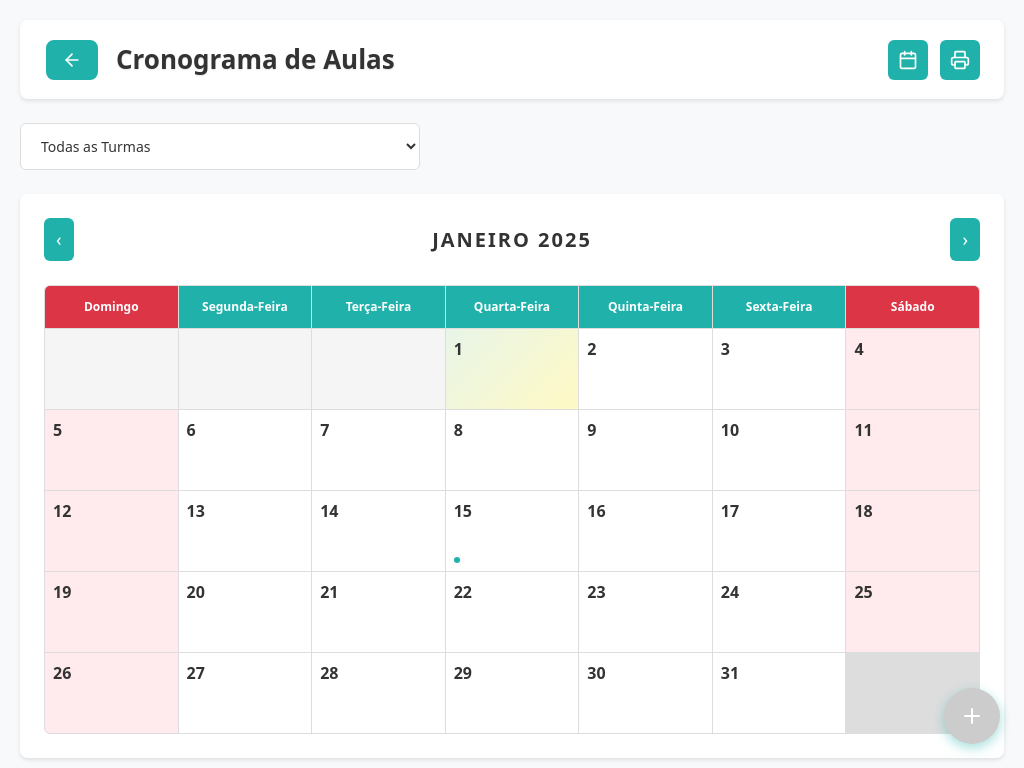
Test case: CronogramaPage › seleciona múltiplos dias com Ctrl+Click
The image size is (1024, 768).
Click the text "15".
click(463, 511)  # box [454,500,472,522]
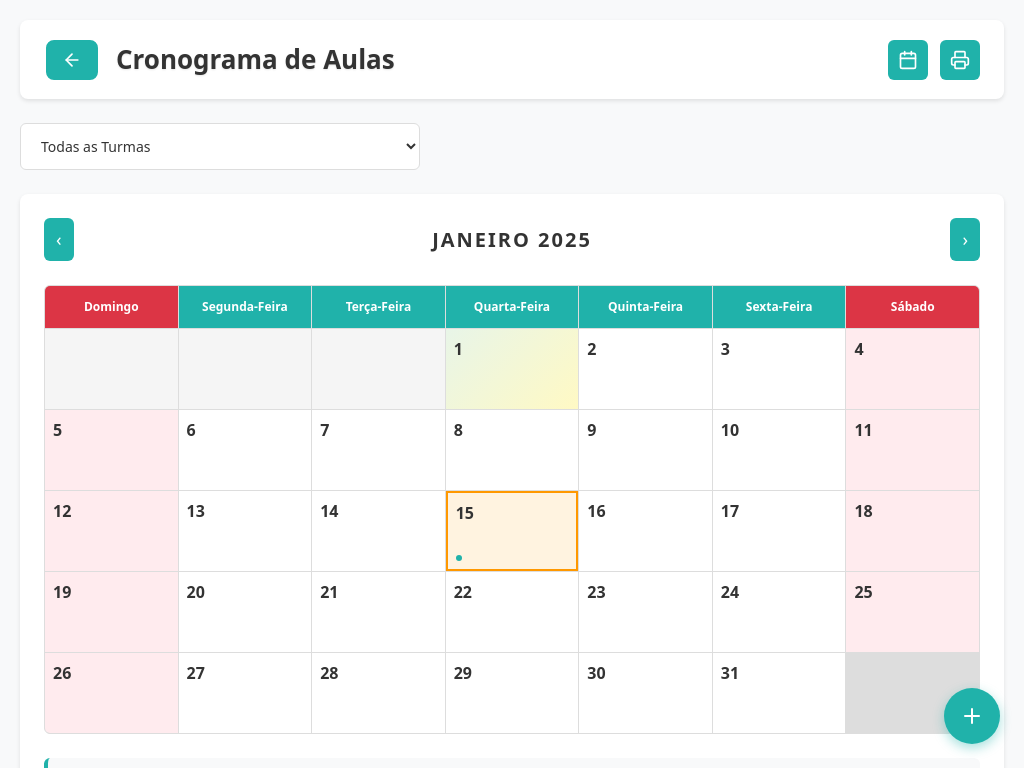
Click the text "16".
click(596, 511)  # box [587,500,606,522]
(page scrolled)
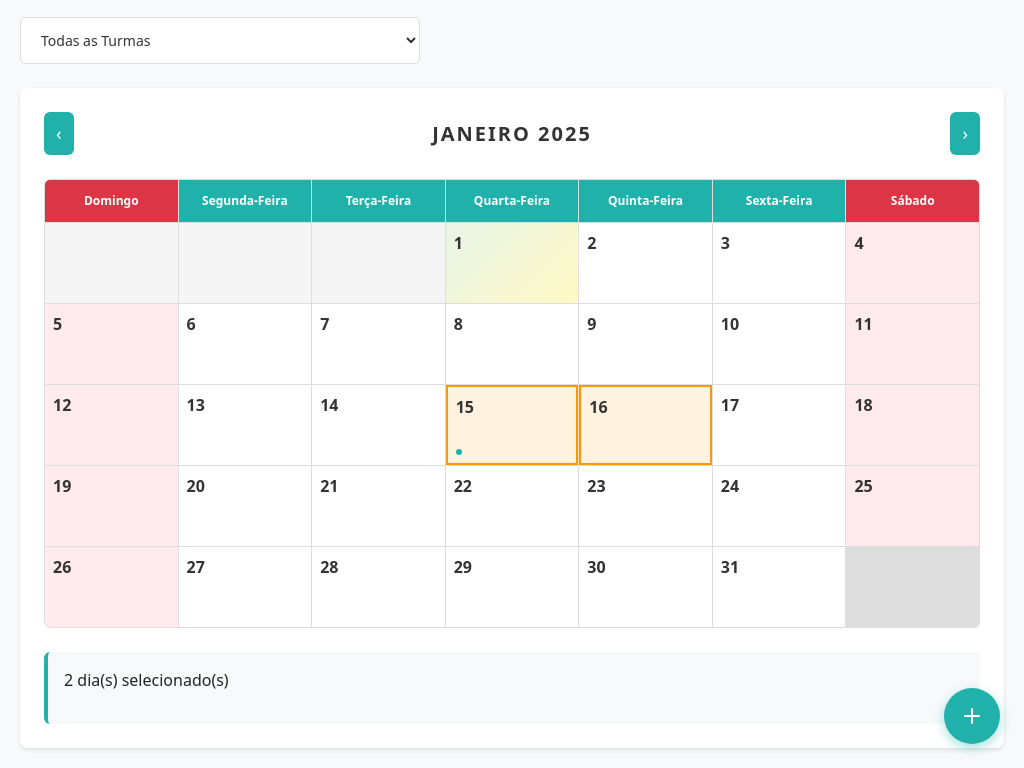
expect the text "2 dia(s) selecionado(s)" is shown: met, box [64,669,229,691]
